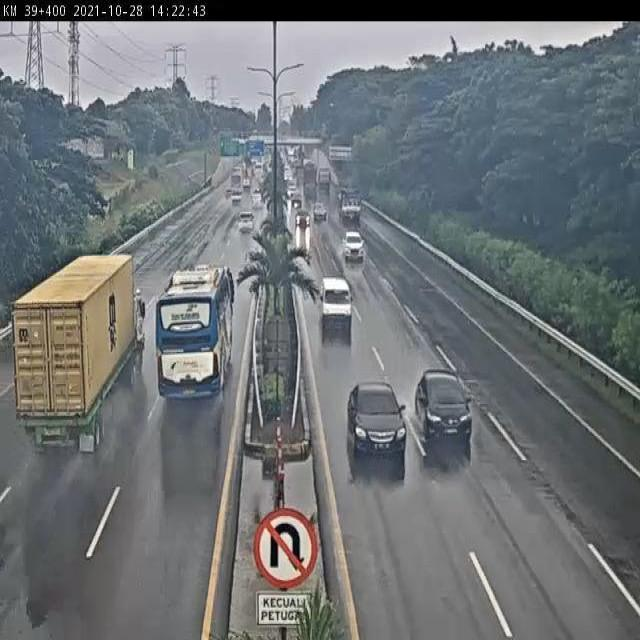bus-l-: (154, 264, 233, 397)
truck-xl-: (12, 250, 146, 454)
